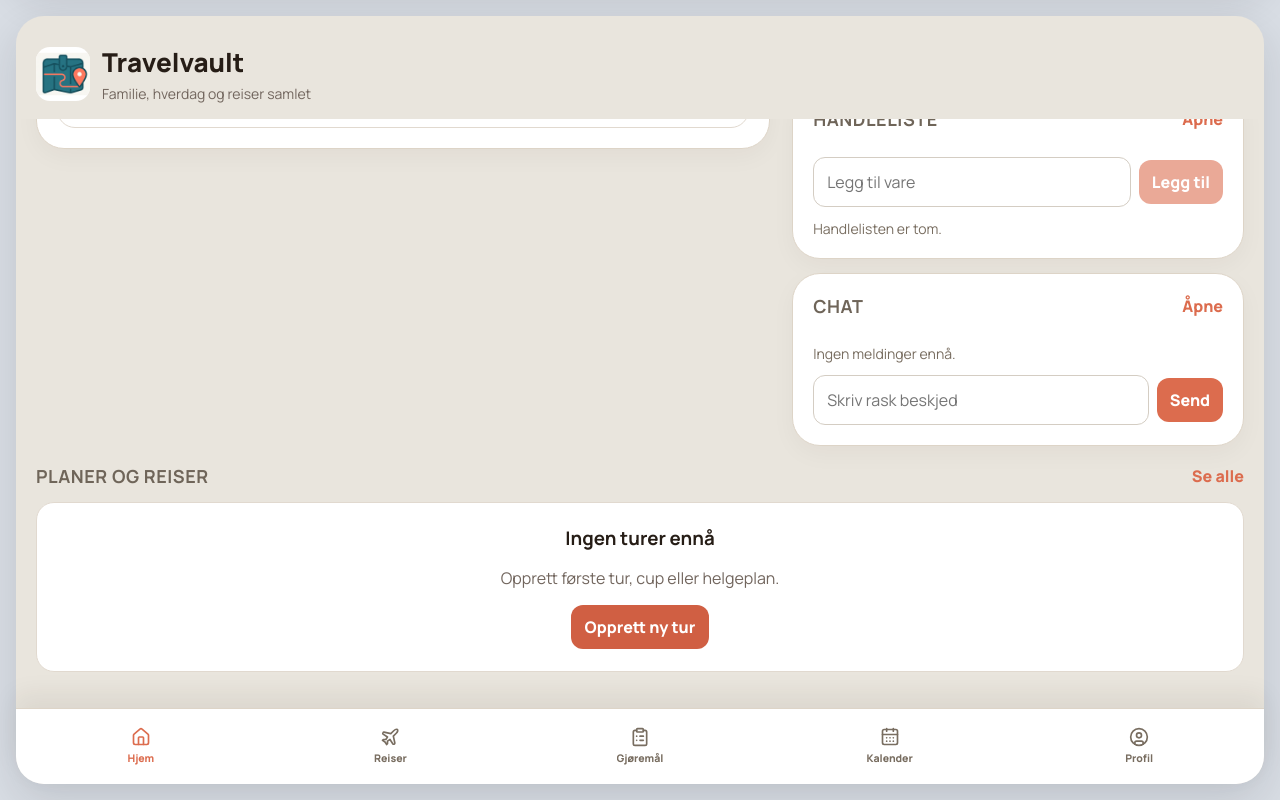
Test case: Travelvault testmodus › hurtigoppretting har ikke gammel femstegsveiviser
This screenshot has width=1280, height=800.
(page scrolled)
Click the button "Opprett ny tur" at (640,627), box x1=571 y1=605 x2=709 y2=649
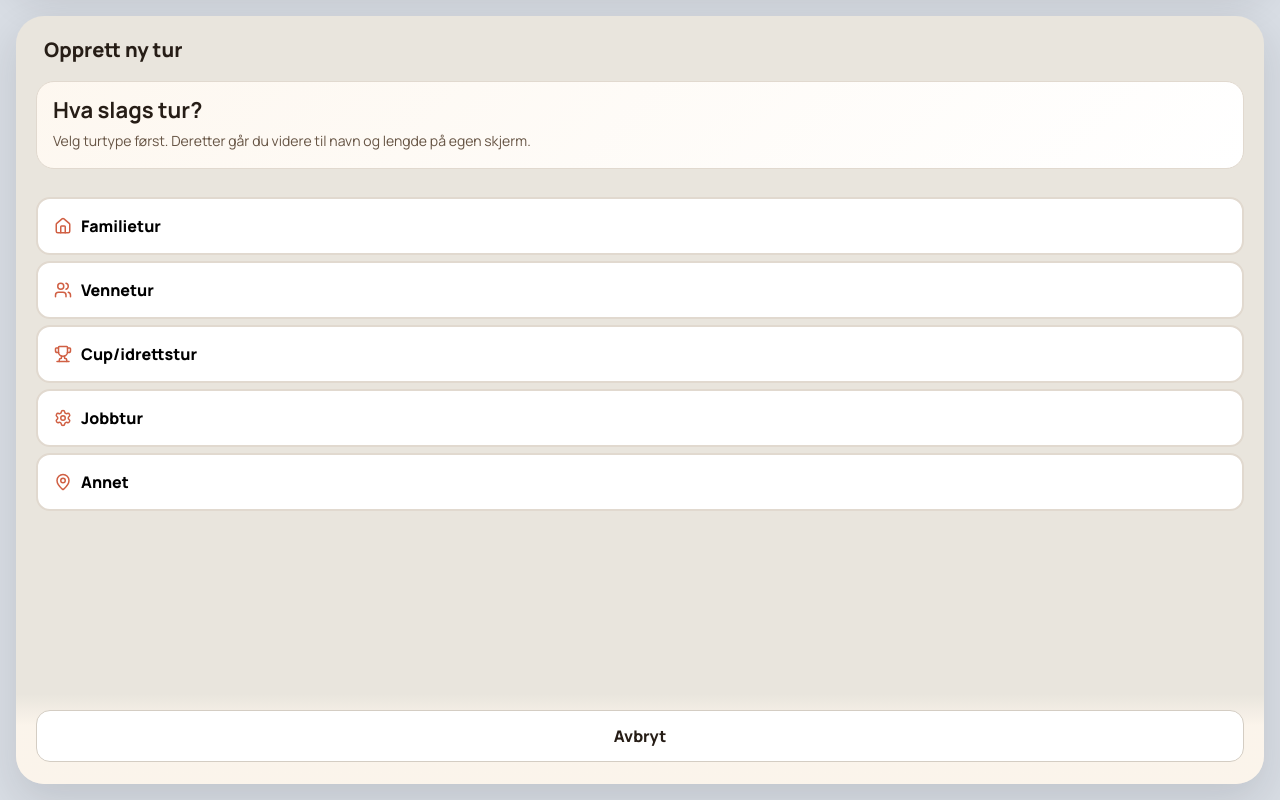
Expected: the field with placeholder "Sommerferie i Danmark" is not shown
Expected: the heading "Hva slags tur?" is shown, x1=53 y1=95 x2=202 y2=125
Click the button "Familietur" at (121,226), box x1=36 y1=197 x2=1244 y2=255
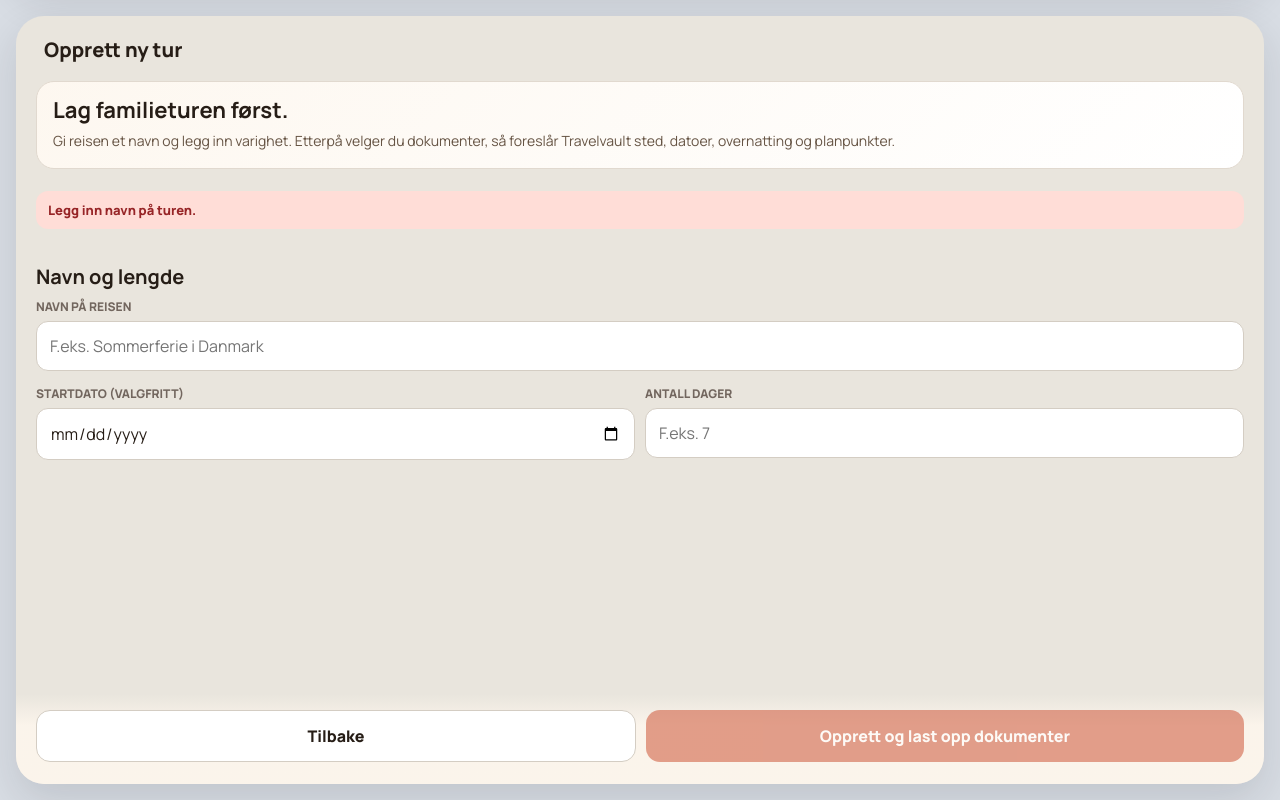
Expected: the heading "Lag familieturen først." is shown, x1=53 y1=95 x2=288 y2=125
Expected: the field with placeholder "F.eks. Sommerferie i Danmark" is shown, x1=36 y1=321 x2=1244 y2=371
